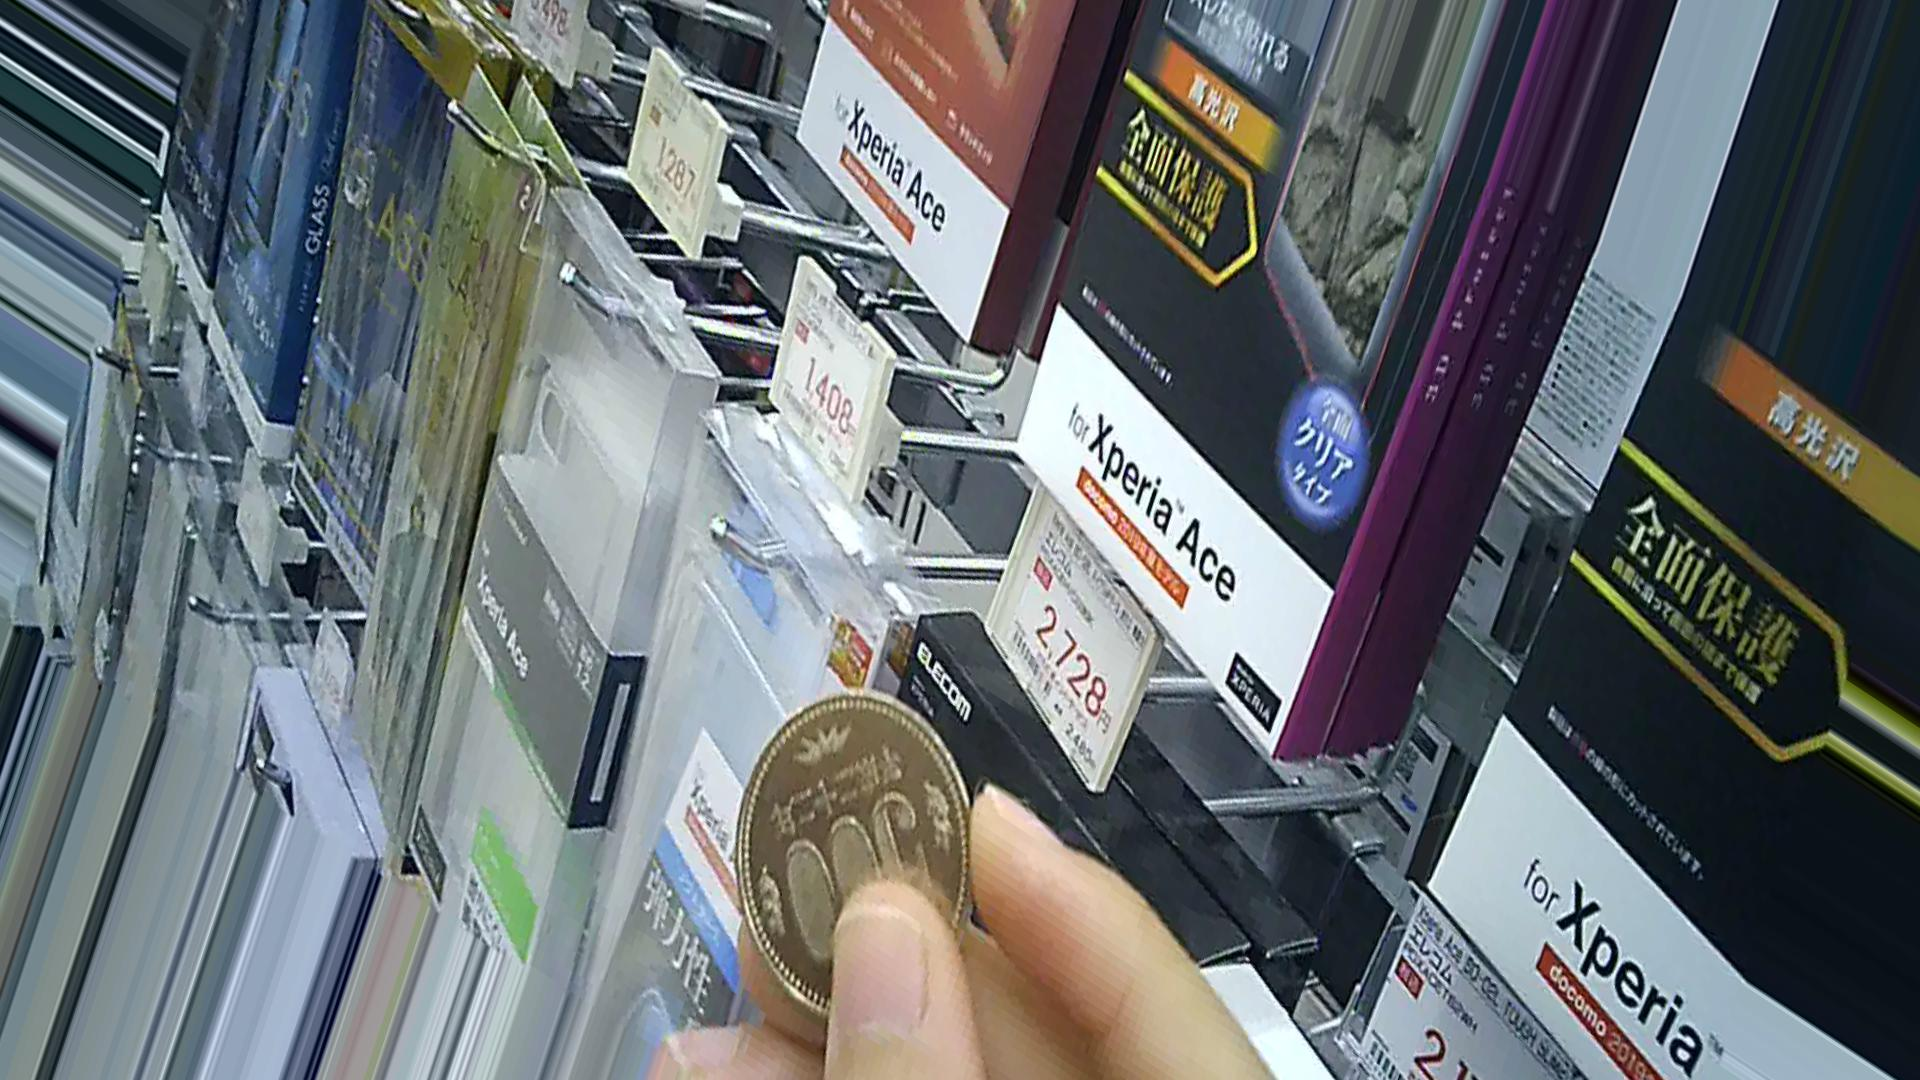500 Yen: (728, 683, 973, 1004)
